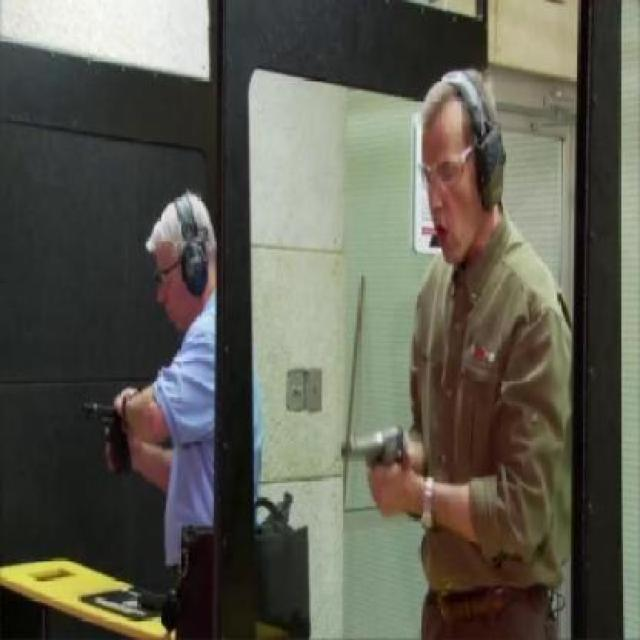gun: (340, 428, 408, 483), (83, 403, 132, 474)
